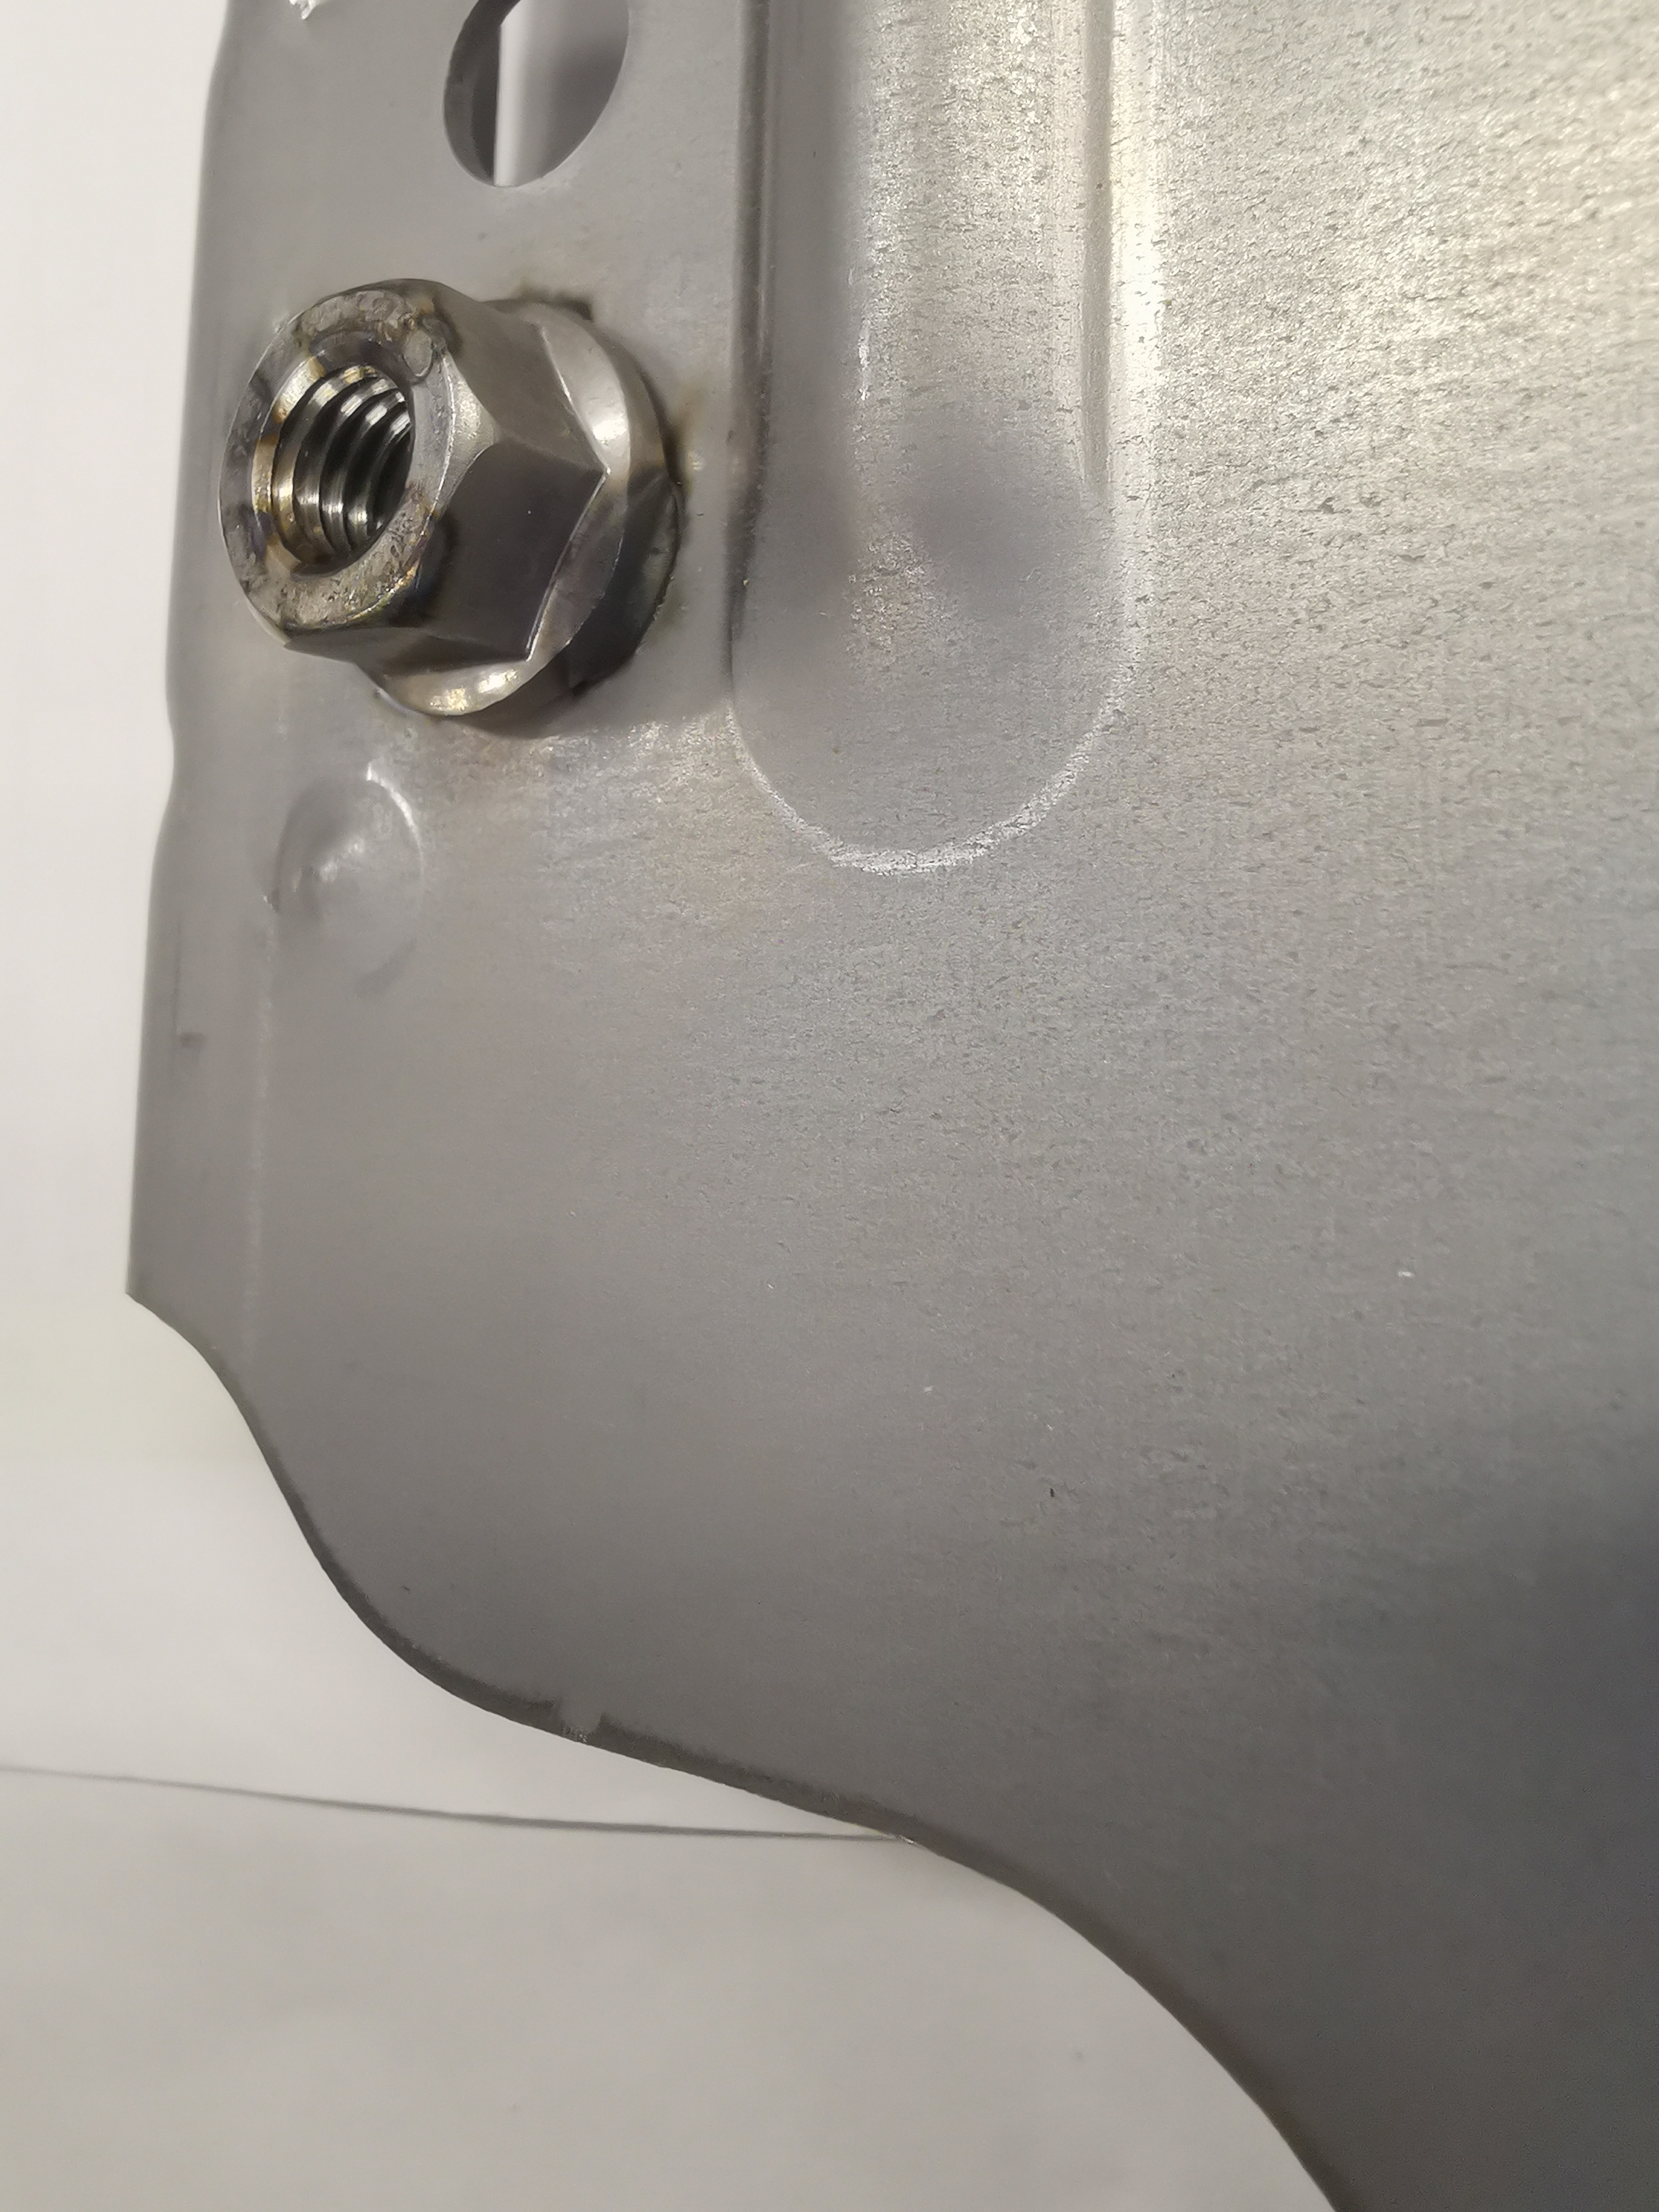dog: (202, 266, 701, 733)
